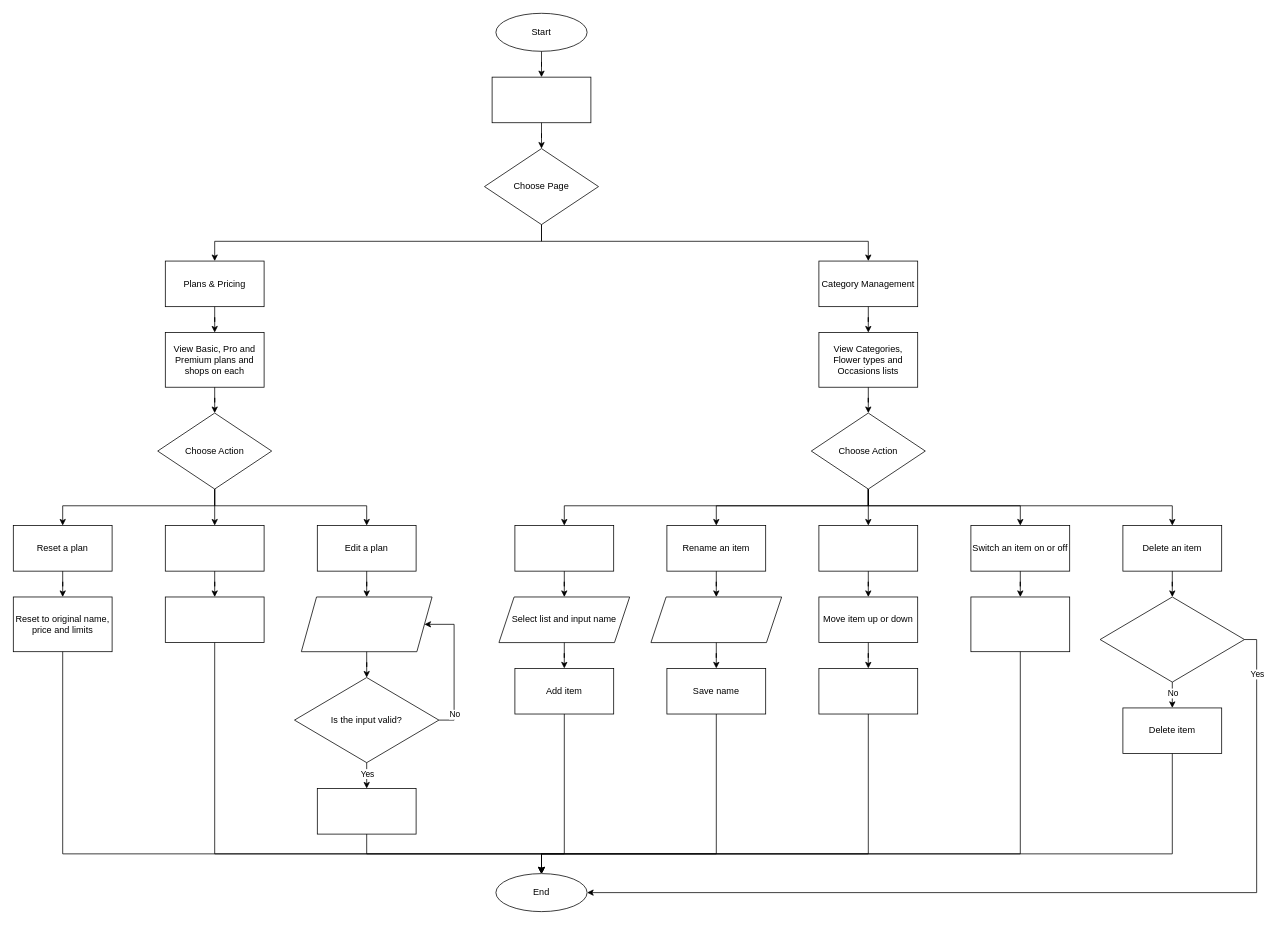
Image size: 1277x925. Some labels were removed from this diagram. Here are the shapes that lost their labels. From the top down, the centre of each, then its label:
At [541,99]: "Admin Console".
At [214,548]: "Discard changes".
At [564,548]: "Add an item".
At [868,548]: "Reorder items".
At [214,619]: "Put back the saved values".
At [366,624]: "Input name, price, description, highlights and limits".
At [716,619]: "Input new name".
At [1020,624]: "Turn item on or off for vendors".
At [1171,639]: "Is it used by any product?".
At [868,691]: "Save new order".
At [366,811]: "Save plan".
